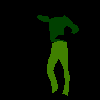jeans: (46, 41, 70, 96)
t-shirt: (36, 14, 79, 42)
